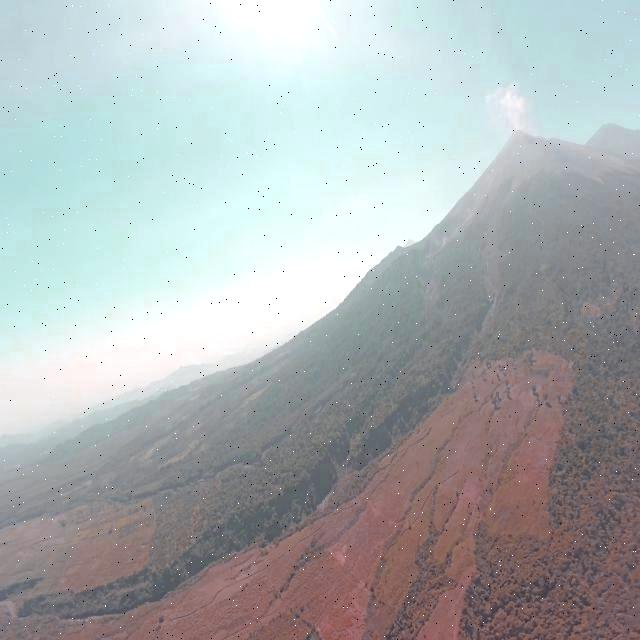Plume: (488, 80, 532, 134)
Summit: (506, 125, 532, 151)
